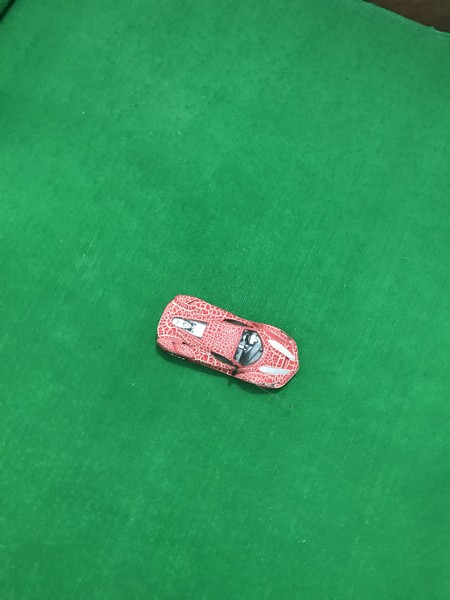RC: (154, 291, 304, 393)
